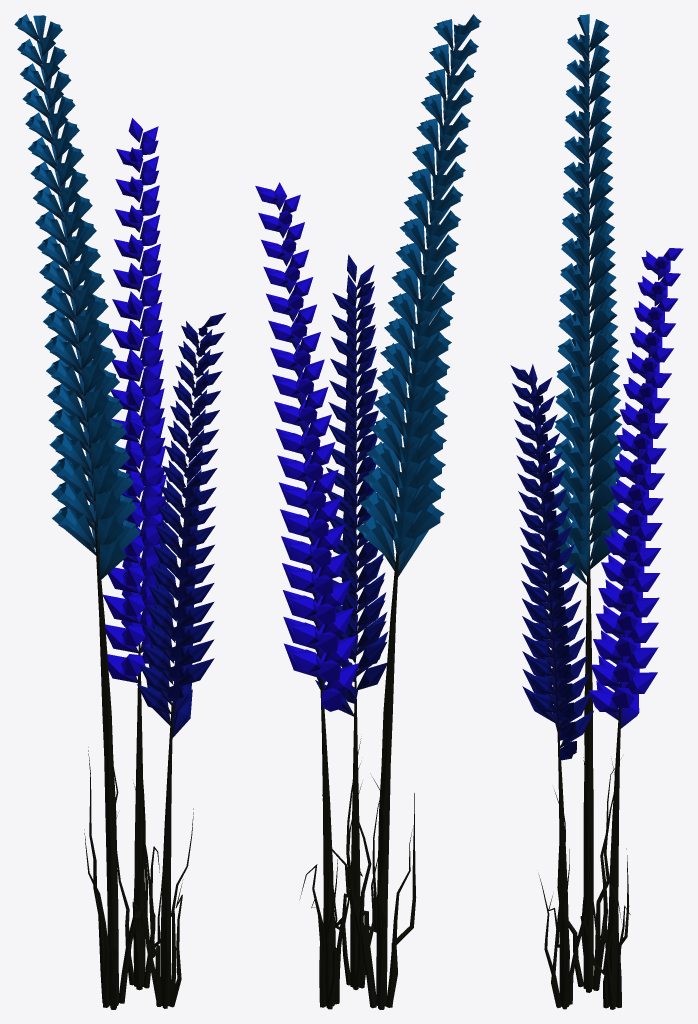
Rendered from Plant-2.fbx.
3 renders of one model, left to right at view 1: azimuth 30°, elevation 25°; view 2: azimuth 150°, elevation 25°; view 3: azimuth 270°, elevation 25°, orthographic. The views are drawn at different scales.
Visible parts, largest first — view 1: file2; view 2: file2; view 3: file2.
Part boxes in pixels (<box>): file2: <box>14,14,225,1009</box>; file2: <box>255,14,481,1009</box>; file2: <box>510,14,683,1009</box>.
Bounding box in the file's own units: 0.3527 × 1.86 × 0.3136.
